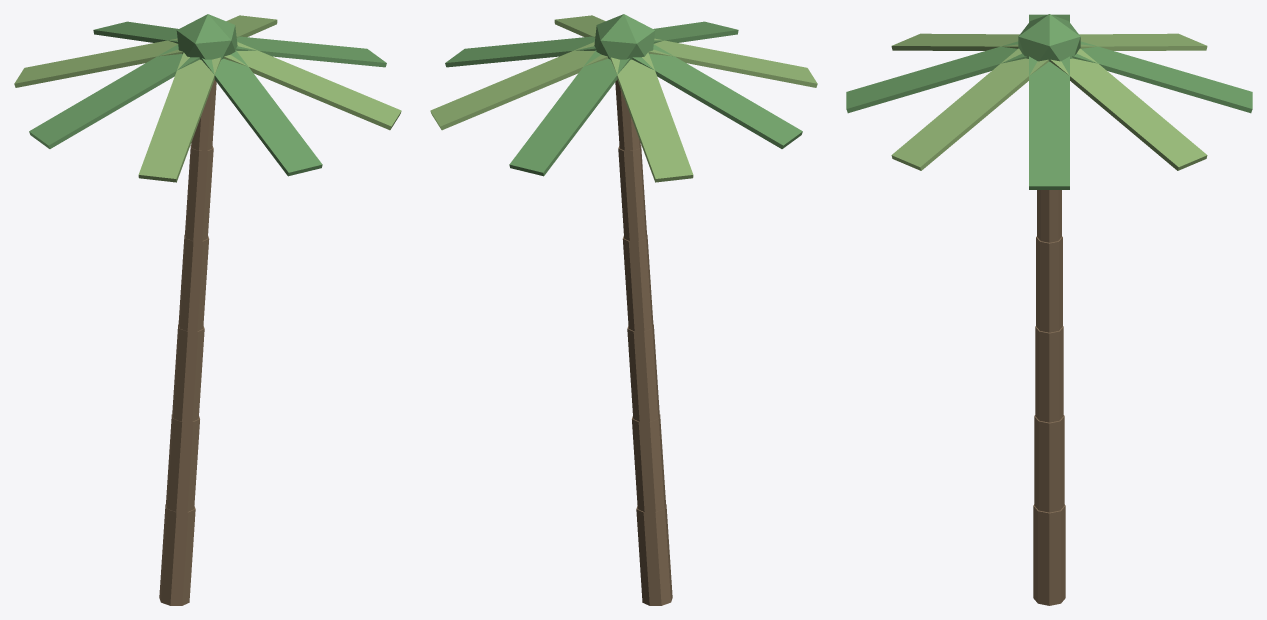
The model's file is tree-palm.glb.
The picture shows the model from 3 angles, left to right: view 1: azimuth 30°, elevation 25°; view 2: azimuth 150°, elevation 25°; view 3: azimuth 270°, elevation 25°; orthographic projection. The views are drawn at different scales.
Visible parts, largest first — view 1: crown, trunk; view 2: crown, trunk; view 3: crown, trunk.
Boxes of the visible parts, x1,y1,x2,y2 form: crown: [14, 14, 401, 182]; trunk: [159, 80, 216, 605]; crown: [430, 14, 817, 182]; trunk: [615, 80, 672, 605]; crown: [846, 14, 1252, 189]; trunk: [1033, 190, 1065, 605].
Bounding box in the file's own units: 4.99 × 8.16 × 4.99.
